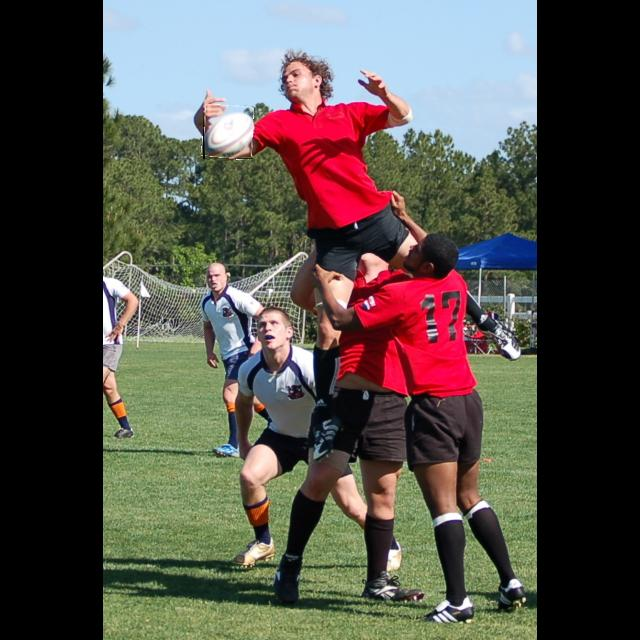Football: (203, 105, 253, 159)
